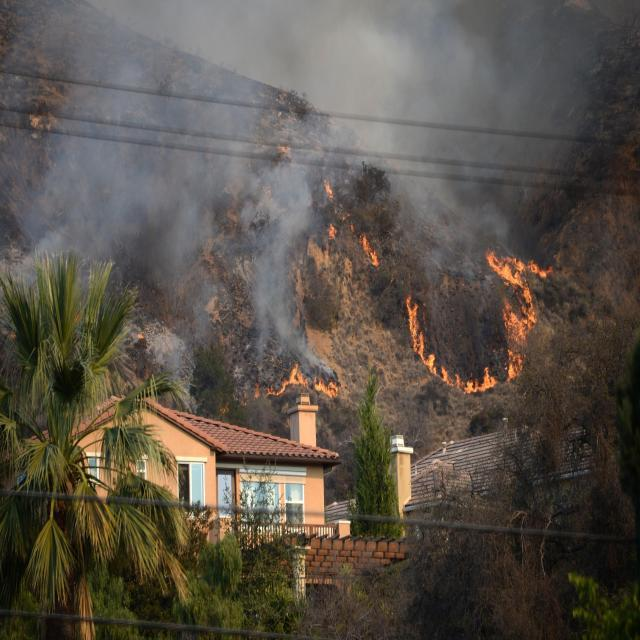Fire: (408, 285, 536, 393), (310, 156, 385, 288), (488, 241, 562, 330), (265, 353, 348, 398), (146, 458, 177, 496), (468, 370, 498, 395)
Smoke: (0, 70, 265, 286), (281, 9, 619, 130)
